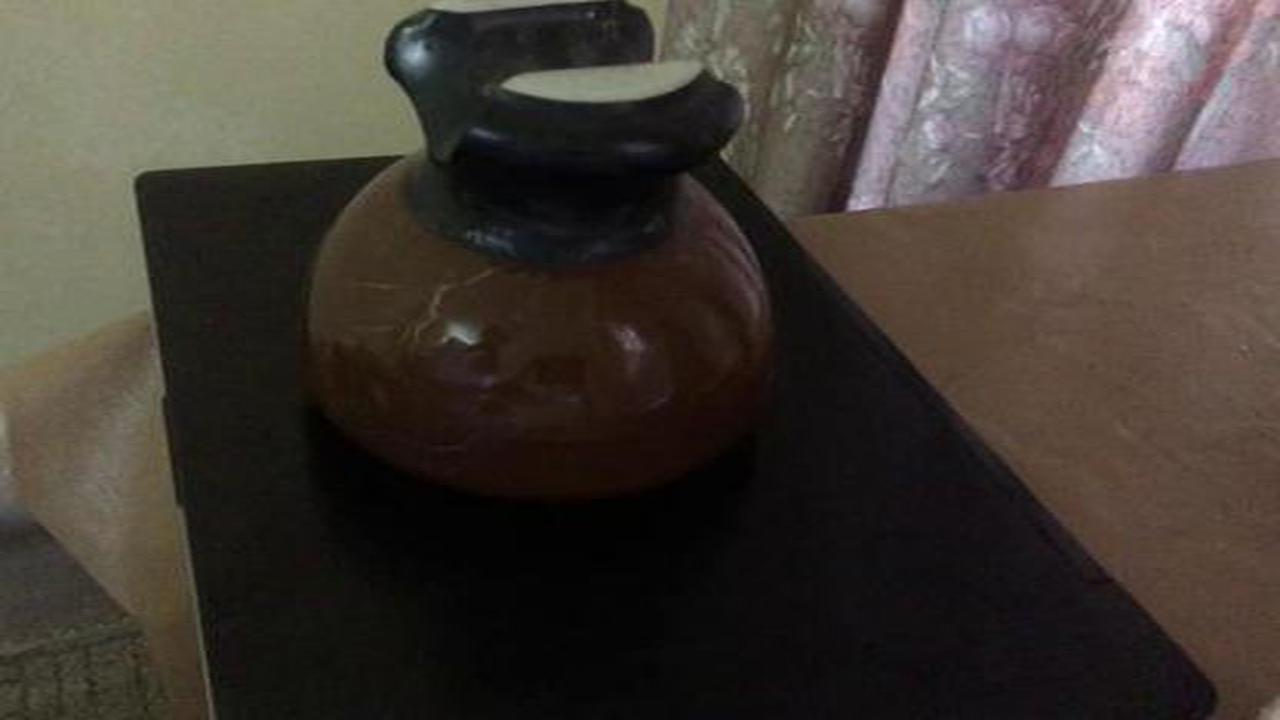insulator_pin: (290, 2, 804, 521)
